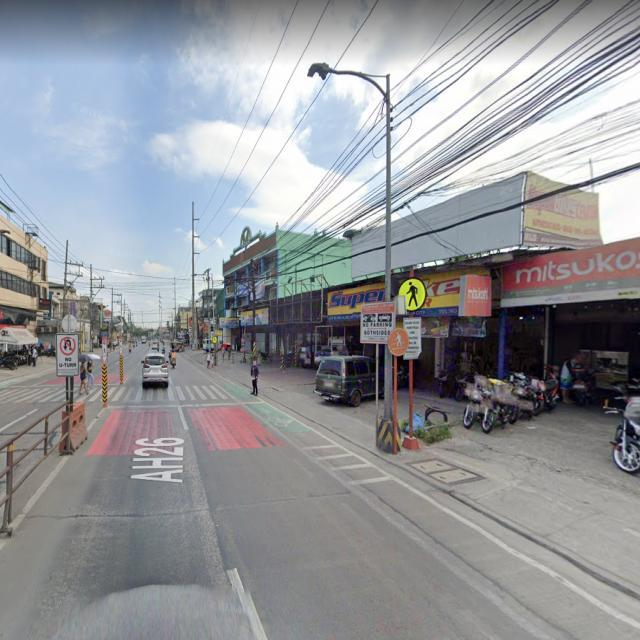no u turn: (55, 333, 81, 375)
pedestrian crossing: (396, 274, 432, 318), (387, 325, 414, 364)
